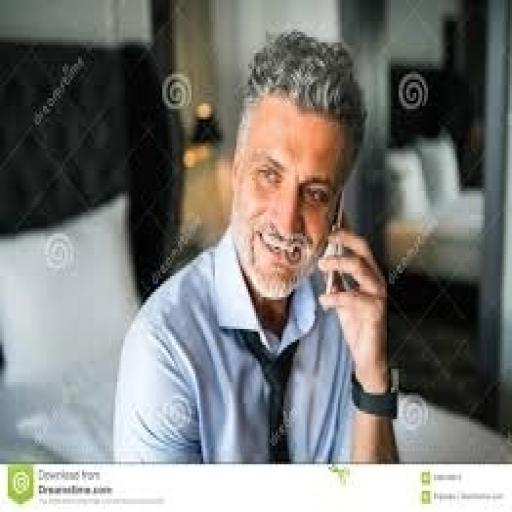calling: (110, 27, 400, 464)
